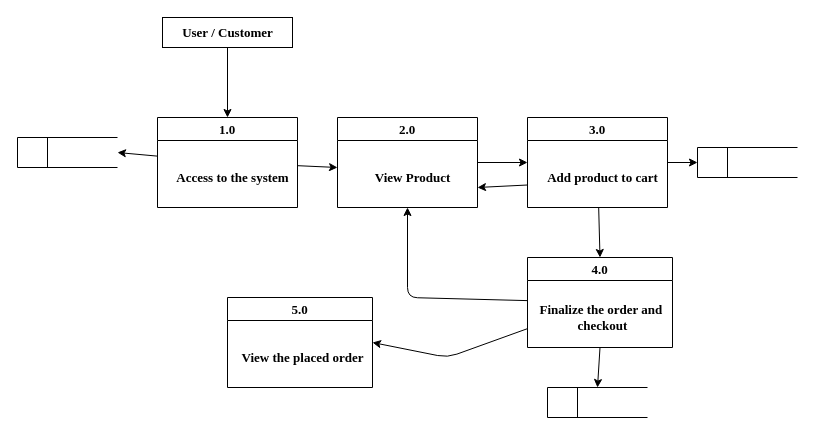
Image size: 815x435. Some labels were removed from this diagram. The shapes that lost their labels are listed below. From the top down, each one's box as (x1, y1, x2, y2) in pixels, then its label:
(16, 136, 118, 168): D1 User
(696, 146, 798, 178): D2 Cart
(546, 386, 648, 418): D3 Orders
